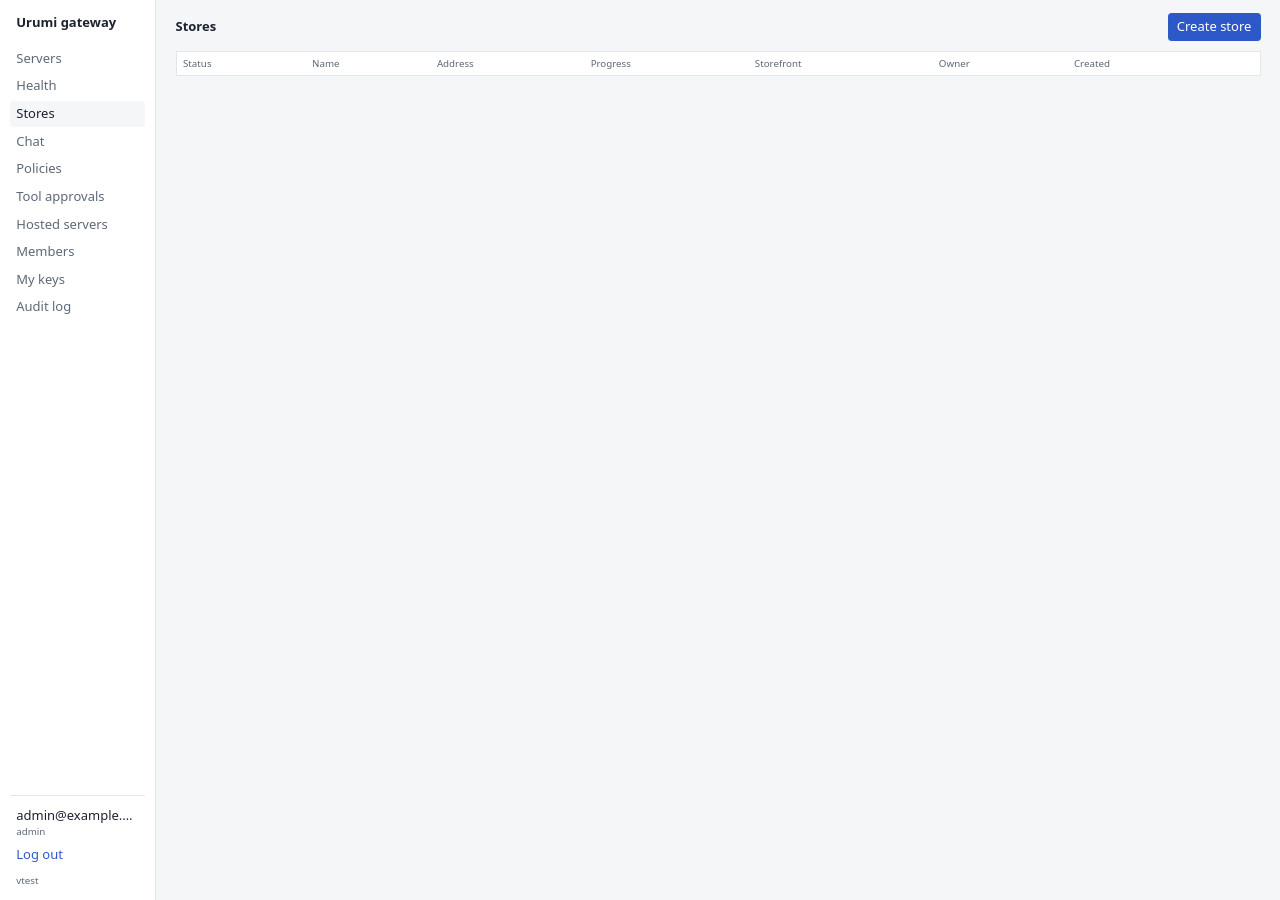
Test: Stores page through the real routes › opens the Create store form instead of the not found screen
This screenshot has width=1280, height=900.
Click the button "Create store" at [1214, 27], box left=1168, top=13, right=1260, bottom=41
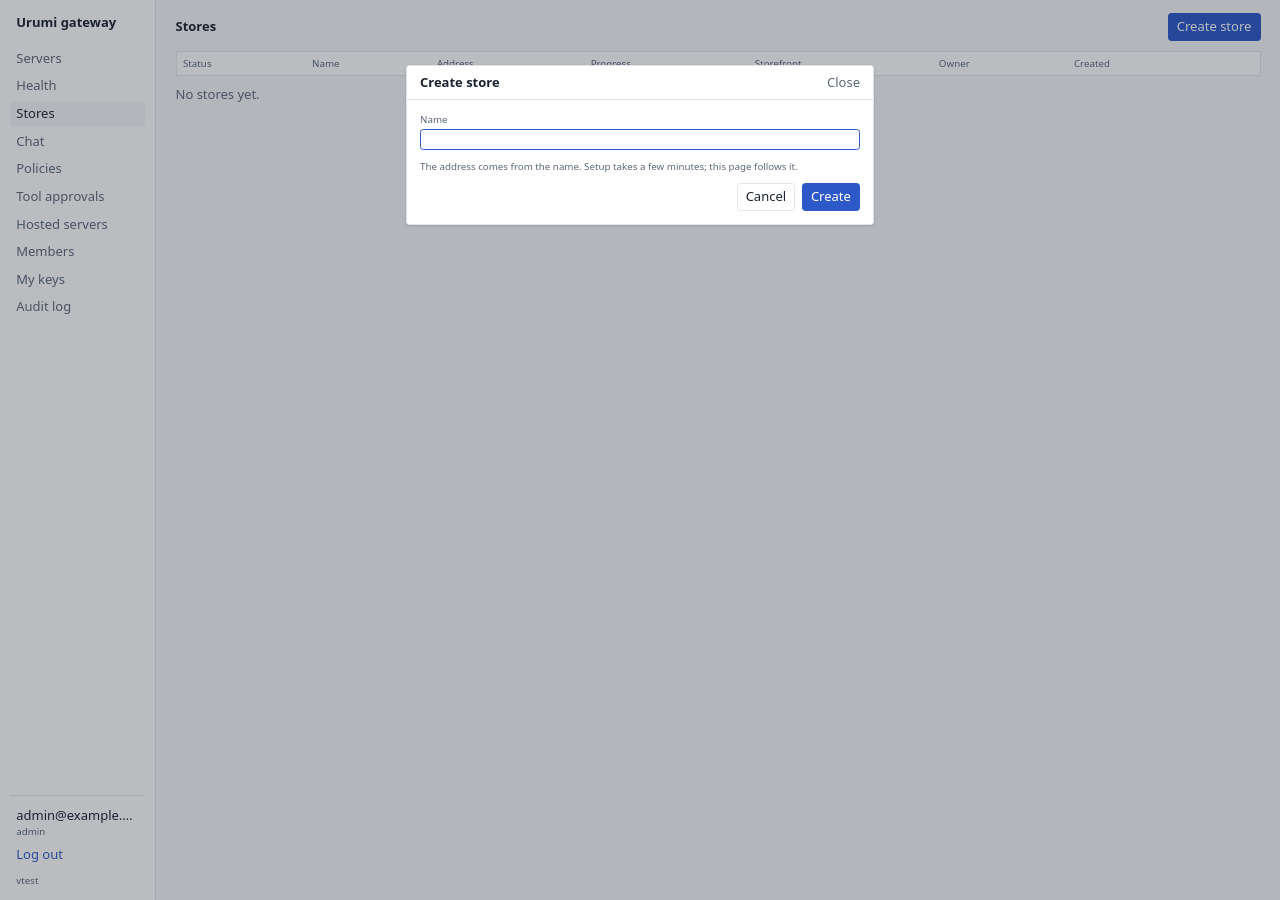
Result: the dialog "Create store" is shown
Result: the field labelled "Name" is shown at left=420, top=129, right=860, bottom=150
